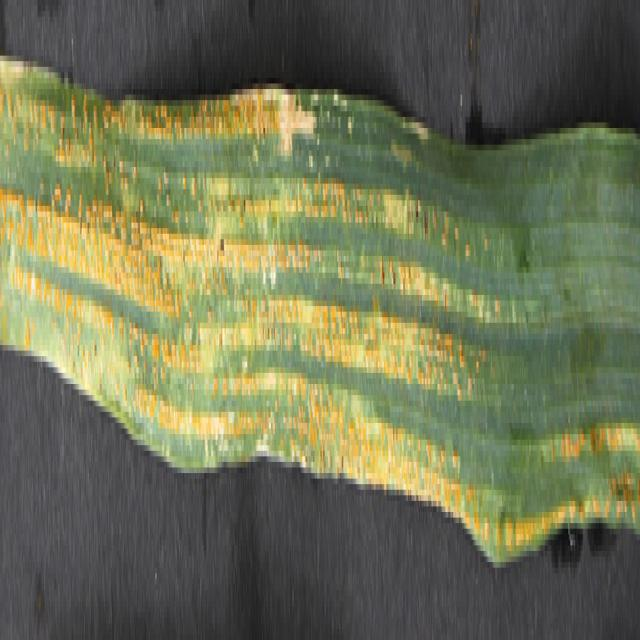leaf rust: (0, 5, 640, 528)
